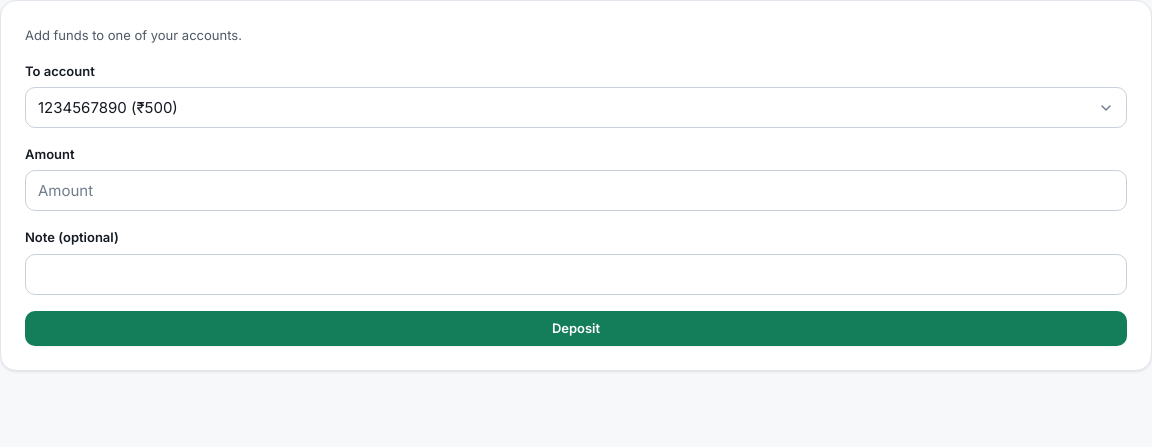
Test: DepositForm › submitting posts the numeric amount and a clientRef, then shows success and clears the form
The width and height of the screenshot is (1152, 447).
In the number field labelled "Amount": (576, 191) [25,170,1127,211], type "250"
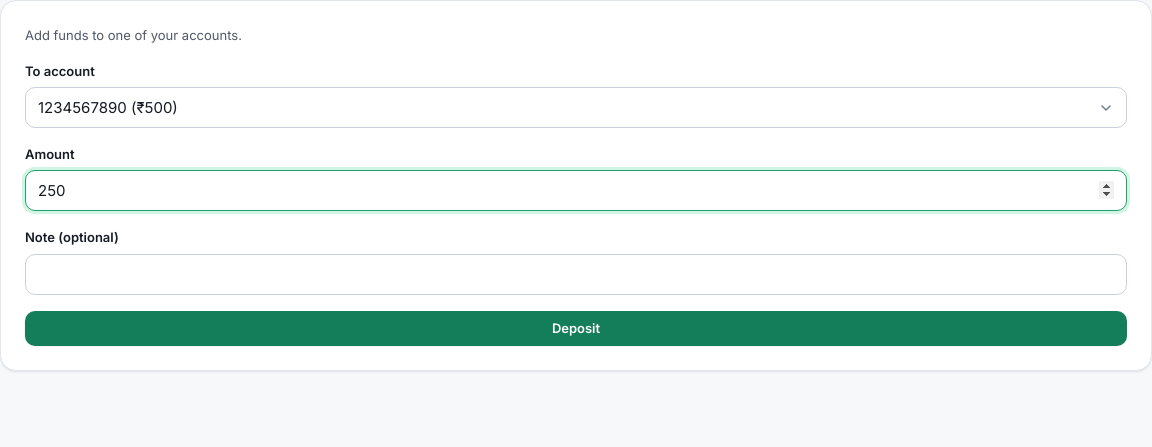
Click the button "Deposit": click(576, 328) [25,311,1127,346]
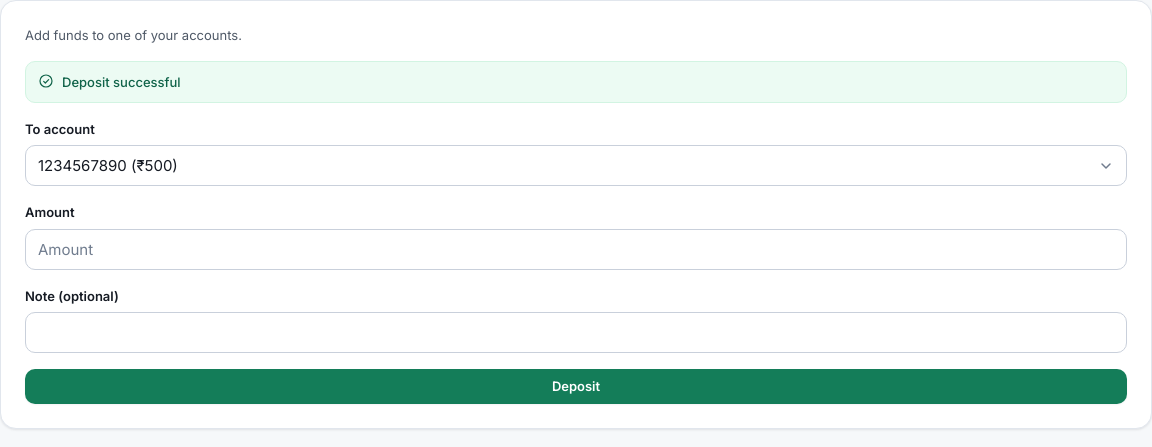
Result: the text "Deposit successful" is shown at [25,61,1127,103]
Result: the number field labelled "Amount" is not empty at [25,229,1127,270]
